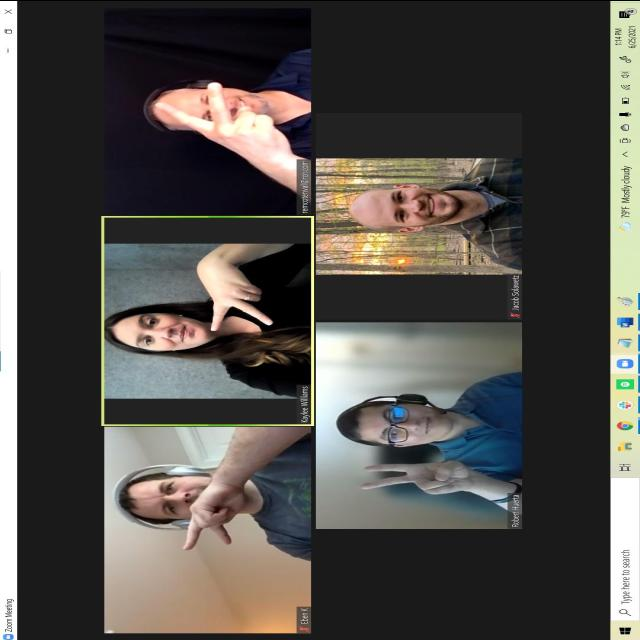Scissors: (157, 80, 280, 164), (354, 450, 476, 502), (177, 472, 254, 542), (197, 250, 252, 321)
